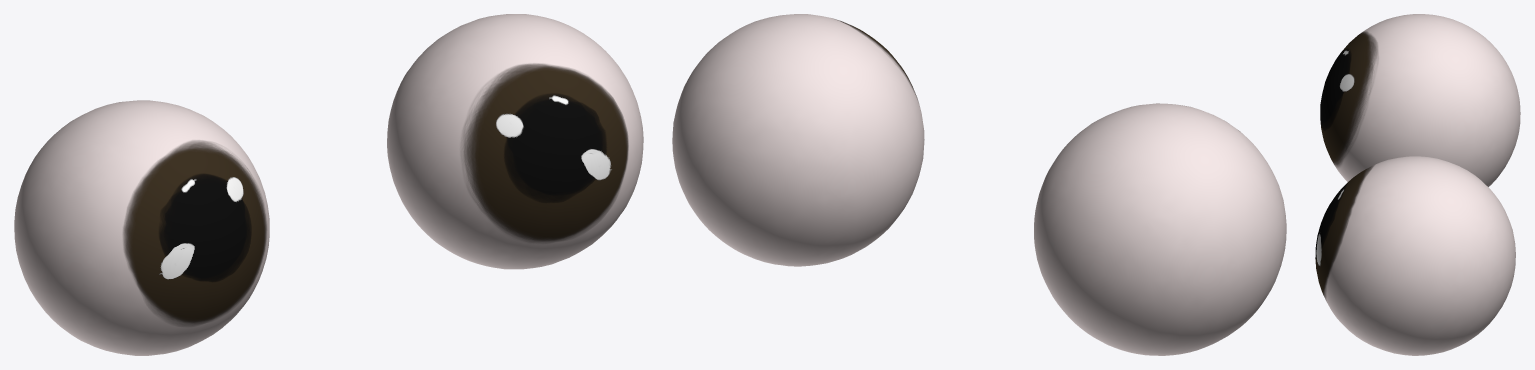
File: eye_1.glb
The picture shows the model from 3 angles, left to right: view 1: azimuth 30°, elevation 25°; view 2: azimuth 150°, elevation 25°; view 3: azimuth 270°, elevation 25°; orthographic projection. The views are drawn at different scales.
Visible parts, largest first — view 1: EYES1_EYES1_0.001; view 2: EYES1_EYES1_0.001; view 3: EYES1_EYES1_0.001.
Boxes of the visible parts, x1=… form: EYES1_EYES1_0.001: x1=14, y1=14, x2=643, y2=355; EYES1_EYES1_0.001: x1=672, y1=14, x2=1286, y2=355; EYES1_EYES1_0.001: x1=1315, y1=14, x2=1520, y2=355.
Size of the model in its own units: 0.841 by 0.3174 by 0.3235.
Materials: 1 (1 with a texture image).
